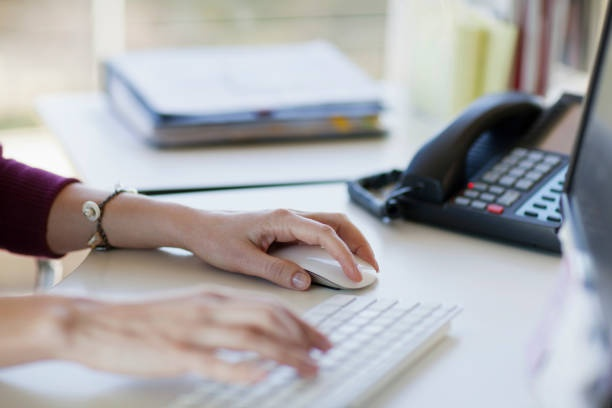keyboard: (170, 294, 461, 408), (454, 143, 560, 211)
mouse: (257, 216, 380, 289)
